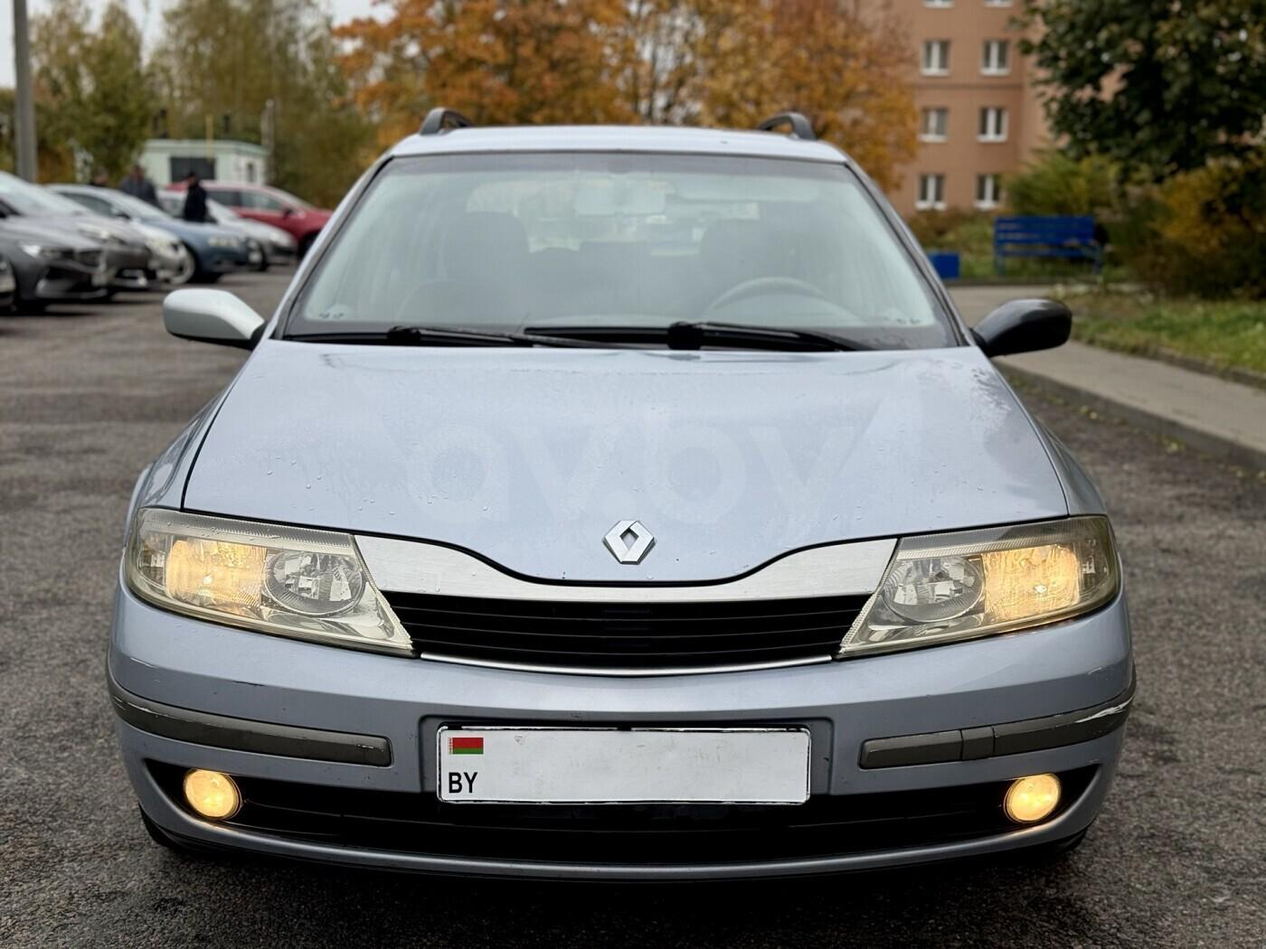Laguna_2001-2005: (108, 109, 1136, 878)
